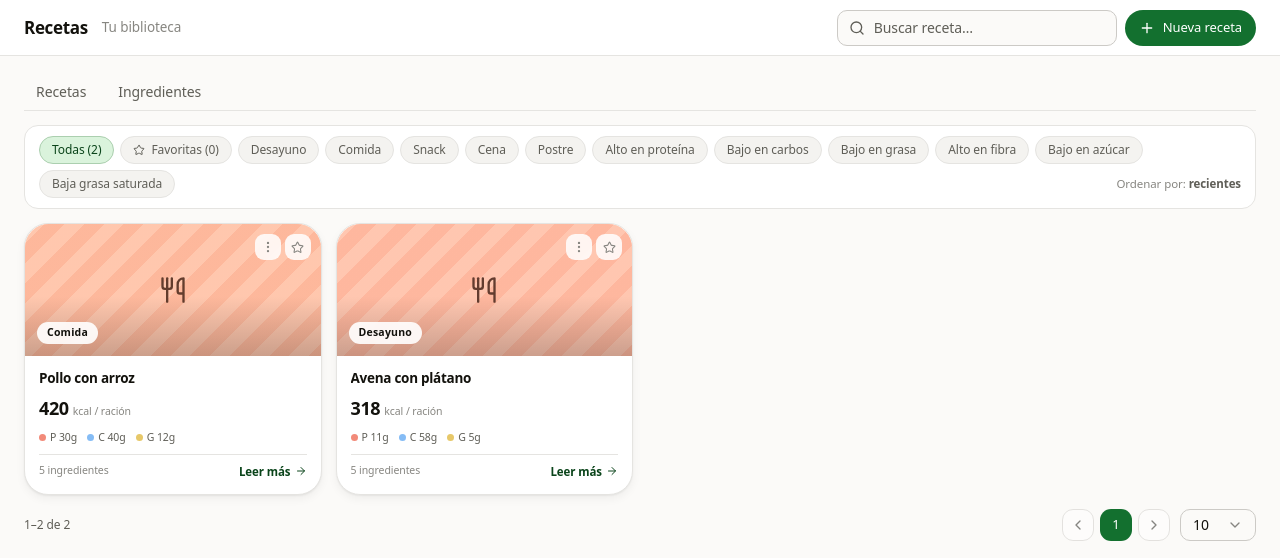
Scenario: RecetasPage › narrows the list with a meal-type chip
Step 1. Click the button "Desayuno" → [279, 150], box [238,136,319,164]
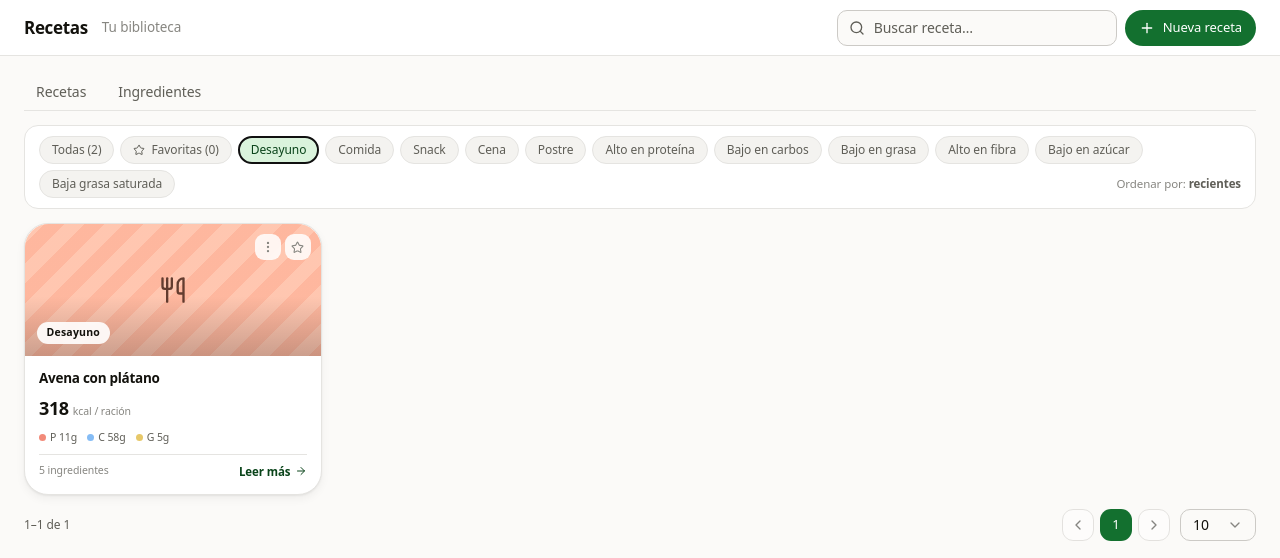
Check: the link "Pollo con arroz" is gone
